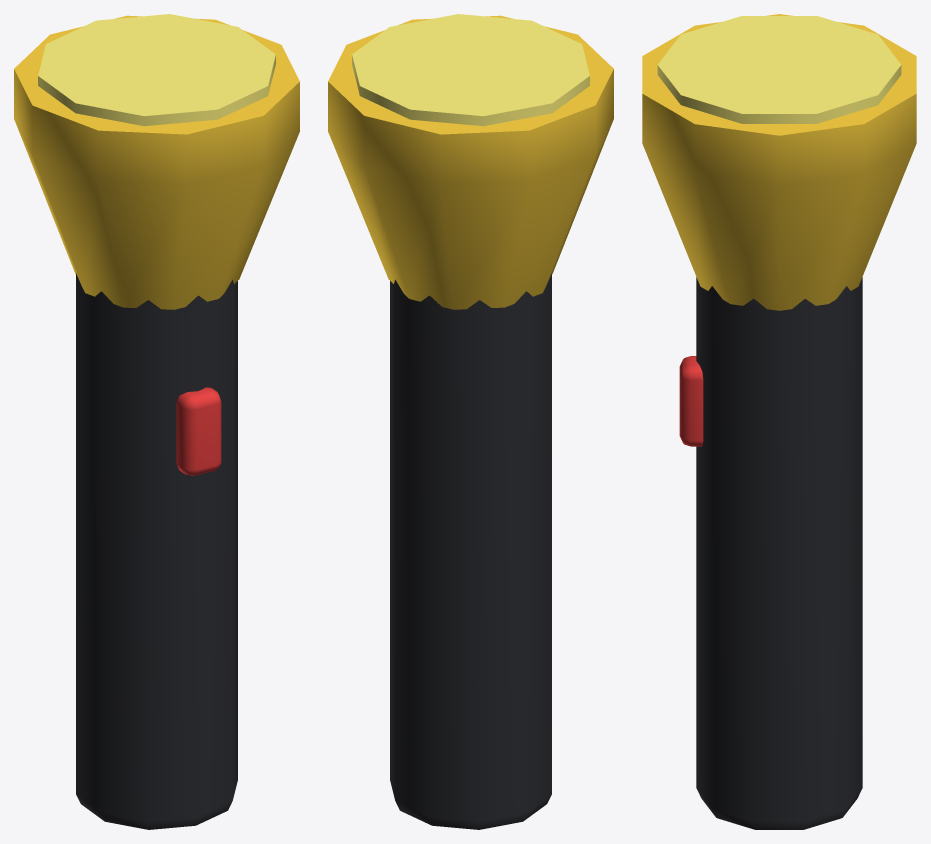
The model's file is Flashlight.fbx.
The picture shows the model from 3 angles, left to right: view 1: azimuth 30°, elevation 25°; view 2: azimuth 150°, elevation 25°; view 3: azimuth 270°, elevation 25°; orthographic projection.
Visible parts, largest first — view 1: Flashlight; view 2: Flashlight; view 3: Flashlight.
Part boxes in pixels (x1,y1,x2,y2): Flashlight: (14,14,299,829); Flashlight: (328,14,613,829); Flashlight: (642,14,916,829).
Bounding box in the file's own units: 0.52 × 1.47 × 0.4945.
Materials: 1 (1 with a texture image).
